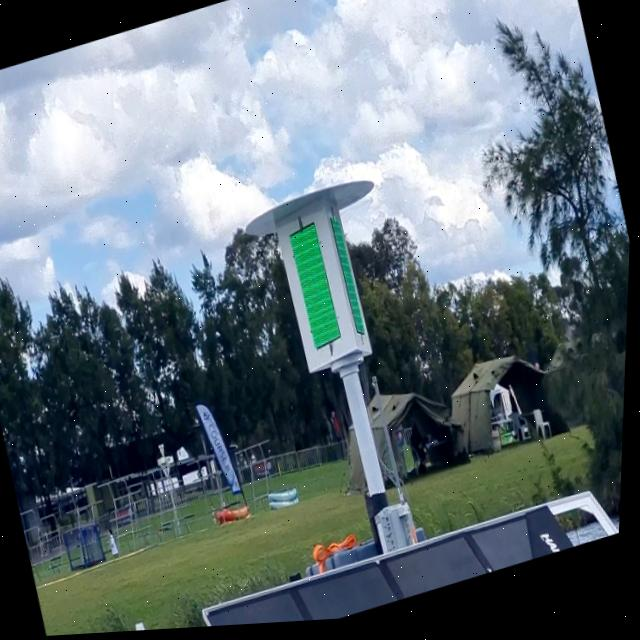led: (280, 220, 357, 364)
